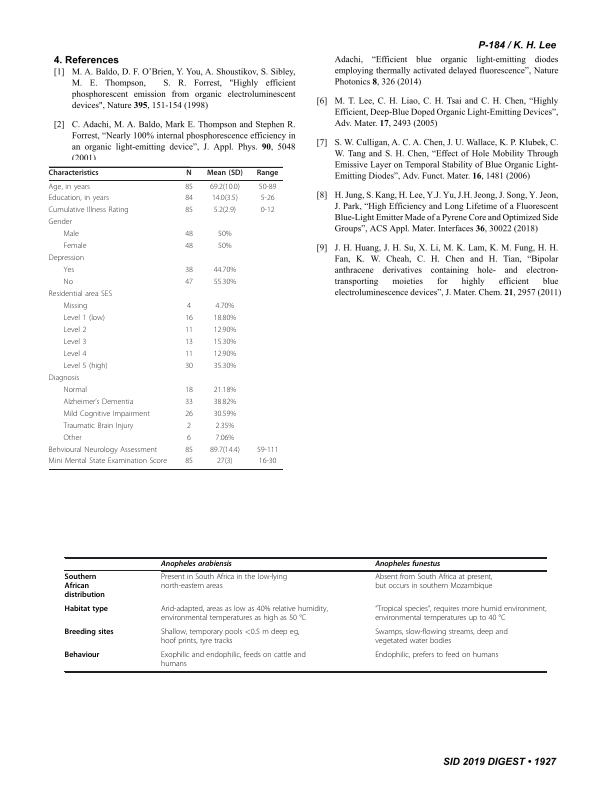borderless: (48, 165, 283, 469), (63, 556, 546, 671)
cell: (374, 605, 547, 624), (160, 605, 329, 624), (160, 651, 307, 670), (160, 628, 300, 647), (374, 628, 509, 647), (160, 573, 288, 592), (374, 573, 493, 592), (374, 651, 499, 661), (63, 573, 106, 601), (48, 457, 168, 467), (48, 445, 158, 455), (62, 409, 151, 419), (48, 206, 130, 216), (62, 397, 134, 407), (62, 421, 134, 431), (160, 560, 233, 569), (48, 194, 110, 204), (374, 560, 441, 569), (48, 290, 113, 299), (63, 628, 115, 638), (63, 605, 109, 615), (48, 169, 99, 178), (48, 182, 91, 192), (62, 362, 109, 371), (62, 314, 106, 323), (63, 651, 100, 661), (206, 169, 244, 178), (48, 254, 85, 263), (209, 182, 241, 192), (209, 445, 241, 455), (48, 374, 80, 383), (211, 194, 239, 204), (62, 385, 88, 395), (48, 218, 73, 228), (213, 206, 237, 216), (213, 385, 237, 395), (213, 397, 237, 407), (213, 409, 237, 419), (62, 302, 88, 311), (256, 445, 279, 455), (62, 242, 87, 251), (62, 326, 87, 335), (62, 338, 87, 347), (62, 350, 87, 359), (213, 266, 237, 275), (213, 278, 237, 287), (213, 314, 237, 323), (213, 326, 237, 335), (213, 338, 237, 347), (213, 350, 237, 359), (213, 362, 237, 371), (214, 421, 235, 431), (62, 433, 83, 443), (214, 433, 235, 443), (256, 169, 279, 178), (258, 182, 277, 192), (258, 457, 277, 467), (214, 302, 235, 311), (62, 230, 80, 240), (216, 457, 234, 467), (260, 194, 275, 204), (260, 206, 275, 216), (217, 230, 232, 240), (217, 242, 232, 251), (62, 266, 75, 275), (62, 278, 74, 287), (184, 182, 194, 192), (184, 194, 194, 204), (184, 206, 194, 216), (184, 230, 194, 240), (184, 385, 194, 395), (184, 397, 194, 407), (184, 409, 194, 419), (184, 445, 194, 455), (184, 457, 194, 467), (184, 242, 194, 251), (184, 266, 194, 275), (184, 278, 194, 287), (184, 314, 194, 323), (184, 326, 194, 335), (184, 338, 194, 347), (184, 350, 194, 359), (184, 362, 194, 371), (185, 169, 193, 178), (186, 421, 192, 431), (186, 433, 192, 443), (186, 302, 192, 311)
